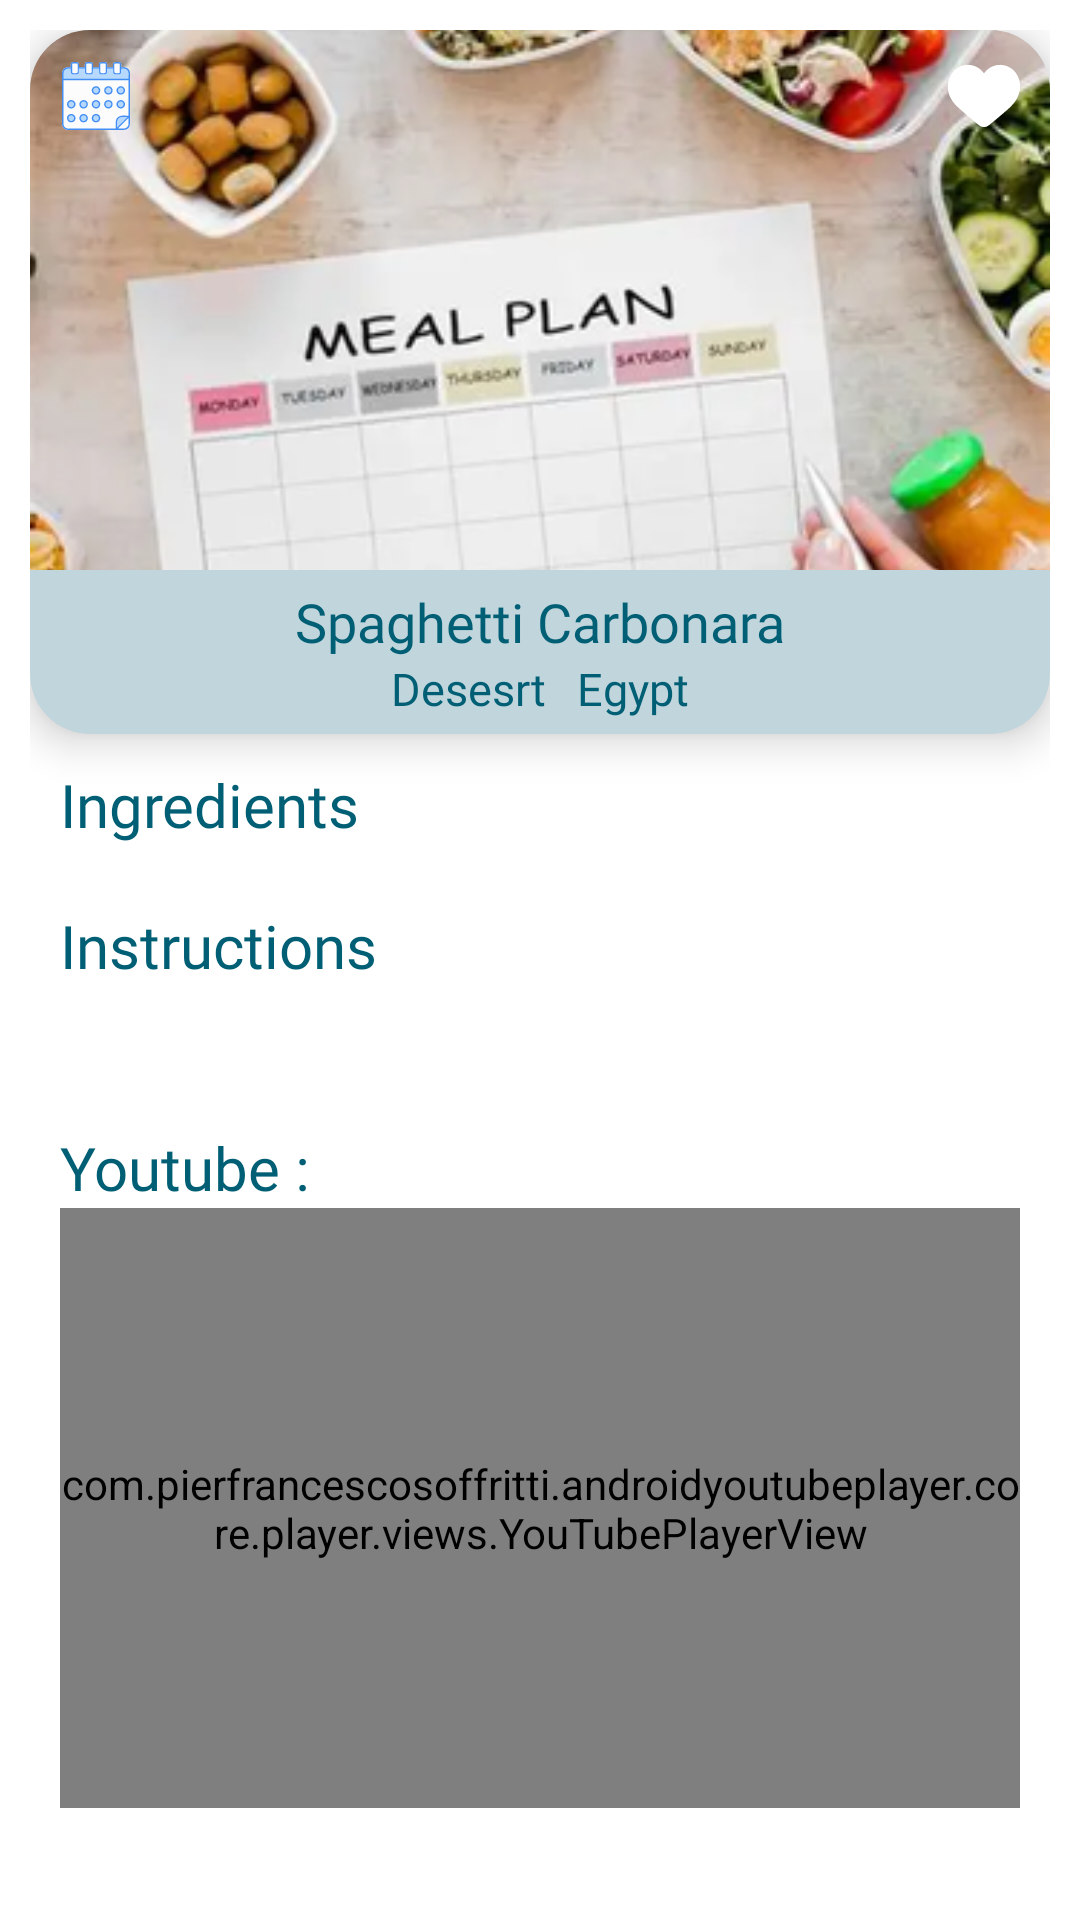

Point at icon controls on the screen. Image size 1080w x 1920h, points as (x=x, y=y).
add to plan: (x=96, y=96)
heart: (x=984, y=96)
